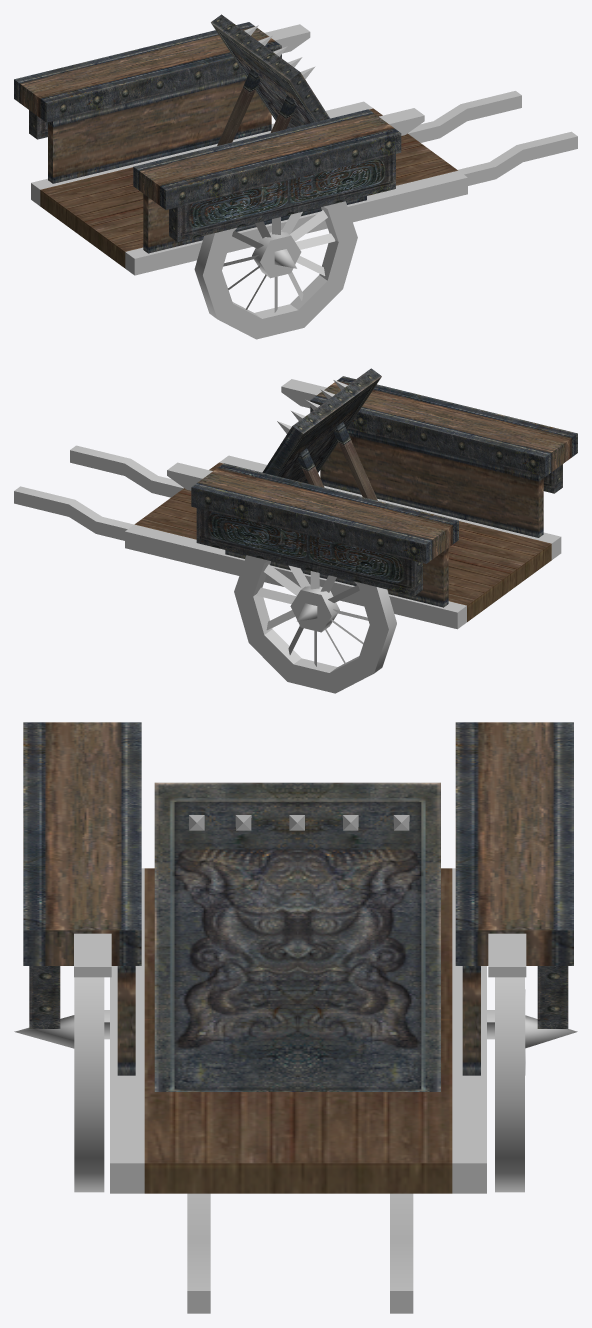
The model's file is zhanche_yc_41.FBX.
3 views of the same model, one above another, from view 1: azimuth 30°, elevation 25°; view 2: azimuth 150°, elevation 25°; view 3: azimuth 270°, elevation 25° (orthographic). The views are drawn at different scales.
Visible parts, largest first — view 1: zhanche_41; view 2: zhanche_41; view 3: zhanche_41.
Boxes of the visible parts, x1=… form: zhanche_41: x1=14, y1=14, x2=577, y2=339; zhanche_41: x1=14, y1=368, x2=577, y2=693; zhanche_41: x1=14, y1=722, x2=577, y2=1313.
Size of what is drawn, in the model's own units: 629 by 304 by 365.
